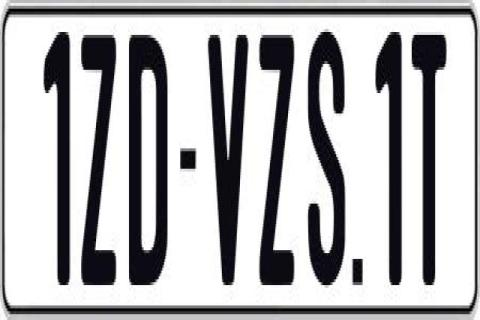0: (40, 27, 66, 297), (376, 29, 401, 299)
D: (129, 35, 171, 285)
S: (306, 29, 348, 299)
T: (408, 29, 442, 279)
V: (206, 32, 247, 288)
Z: (80, 32, 122, 300), (258, 29, 298, 279)
